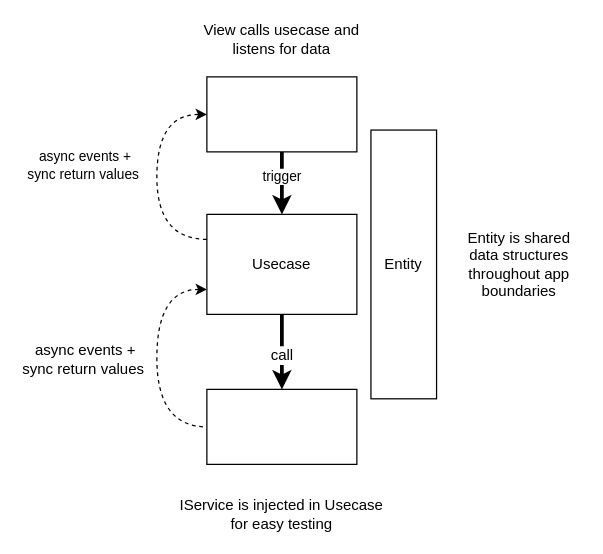
Image size: 603x554. Some labels were removed from this diagram. Here are the shapes that lost their labels. From the top down, the centre of each, then its label:
At pixel 281 114: "View".
At pixel 281 426: "Service".
